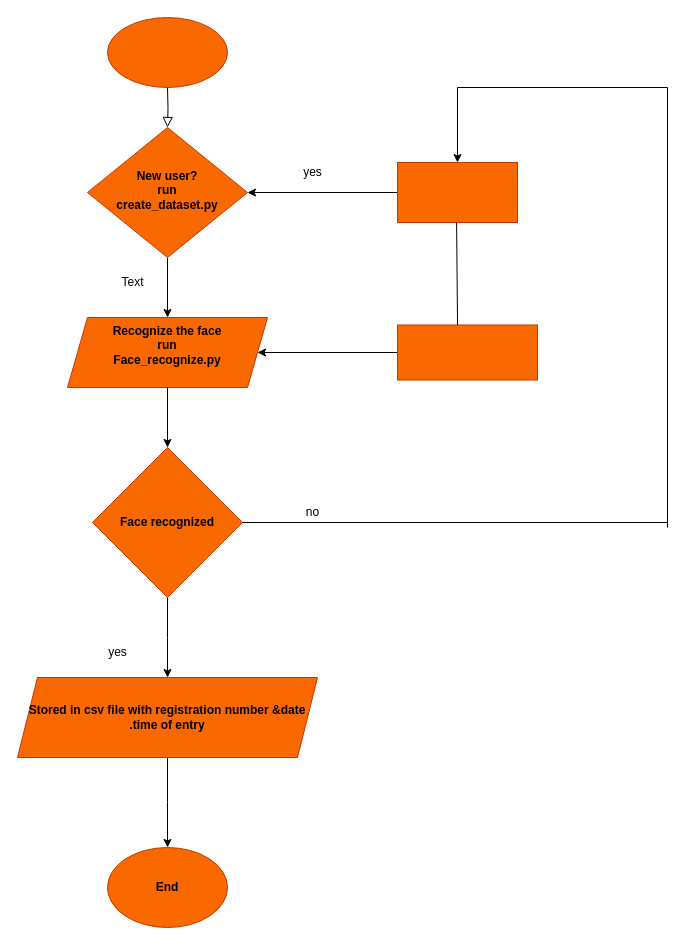
Image size: 686x945. Some labels were removed from this diagram. The shapes that lost their labels are listed below. From the top down, each one's centre as x and y in pixels, then its label:
point 167,52: Start
point 457,192: Give your photograph
point 467,352: Store the face data in folder on your name
